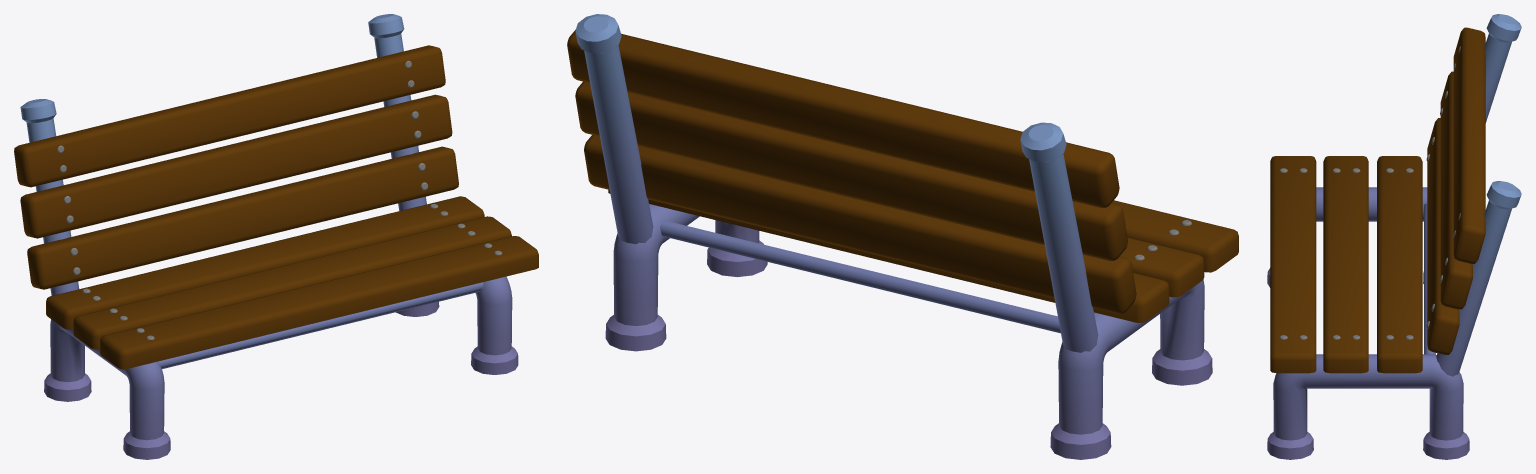
The model's file is Bench_1_1.fbx.
3 views of the same model, side by side, from view 1: azimuth 30°, elevation 25°; view 2: azimuth 150°, elevation 25°; view 3: azimuth 270°, elevation 25° (orthographic). The views are drawn at different scales.
Parts seen in each view (by area): view 1: Bench_1_1; view 2: Bench_1_1; view 3: Bench_1_1.
Part boxes in pixels (bbox=[...]): Bench_1_1: bbox=[14, 14, 538, 459]; Bench_1_1: bbox=[567, 14, 1238, 459]; Bench_1_1: bbox=[1267, 14, 1521, 459].
Size of the model in its own units: 190 by 117 by 101.
